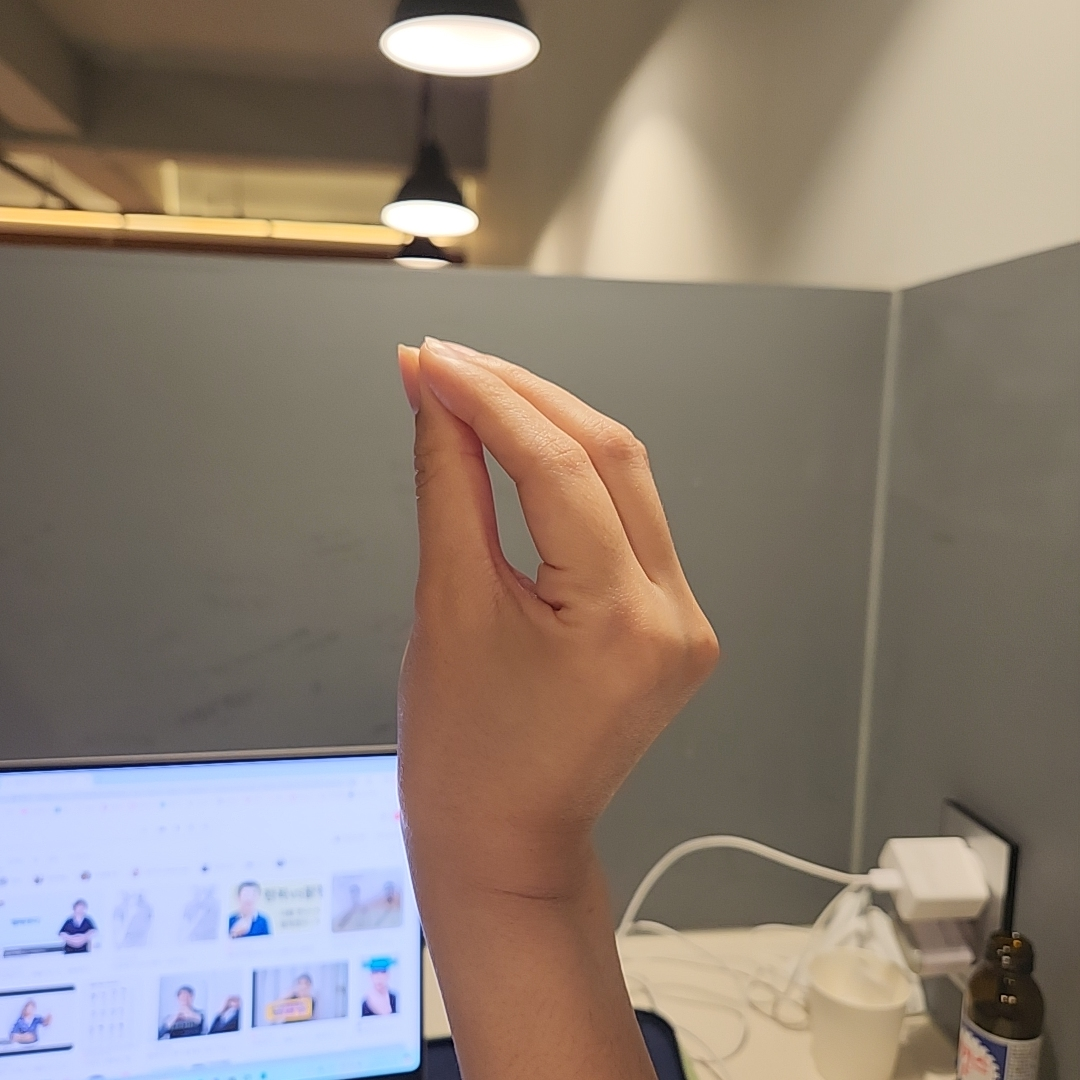happy: (395, 332, 722, 877)
